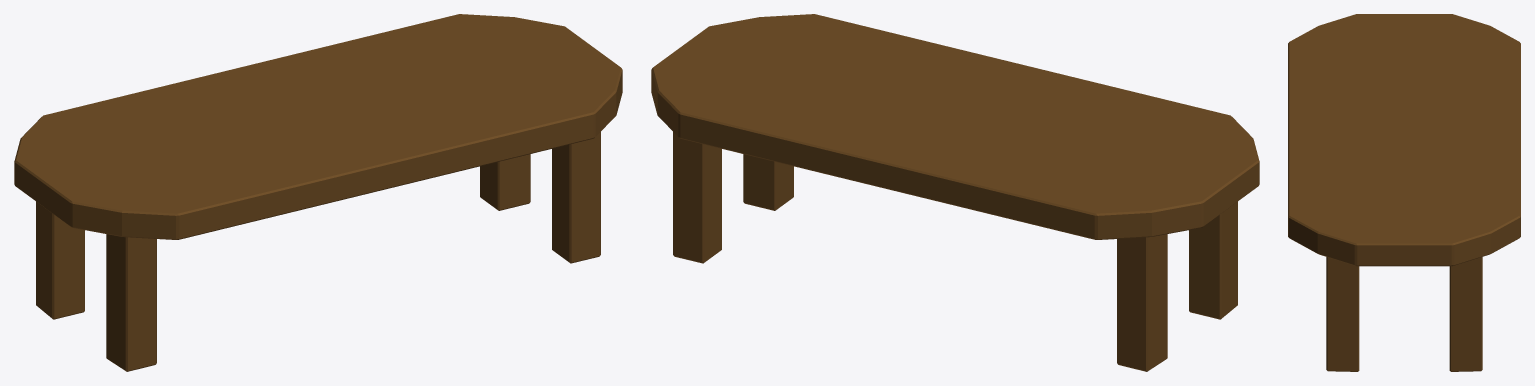
The model's file is Table02.fbx.
3 renders of one model, left to right at view 1: azimuth 30°, elevation 25°; view 2: azimuth 150°, elevation 25°; view 3: azimuth 270°, elevation 25°, orthographic. The views are drawn at different scales.
Parts seen in each view (by area): view 1: TableSquare.001; view 2: TableSquare.001; view 3: TableSquare.001.
Part boxes in pixels (left/top/right/bottom): TableSquare.001: left=14, top=14, right=622, bottom=371; TableSquare.001: left=651, top=14, right=1259, bottom=371; TableSquare.001: left=1288, top=14, right=1520, bottom=371.
Size of the model in its own units: 697 by 203 by 297.
